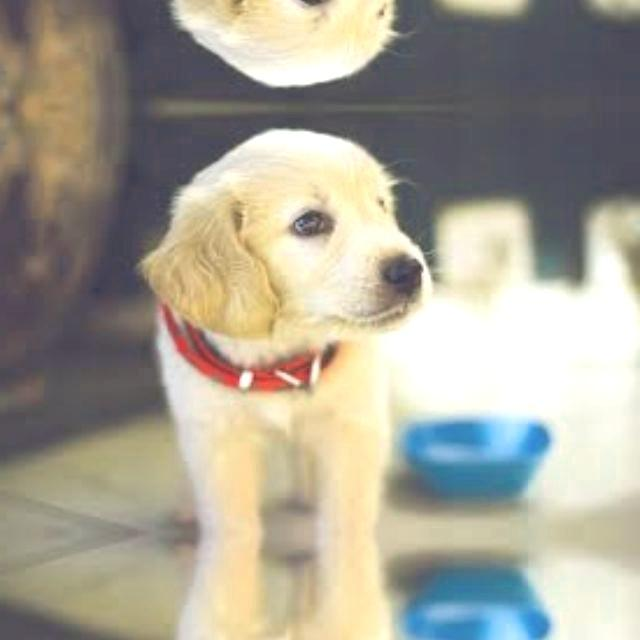dog: (139, 135, 439, 532), (139, 532, 439, 640), (139, 0, 439, 78)
